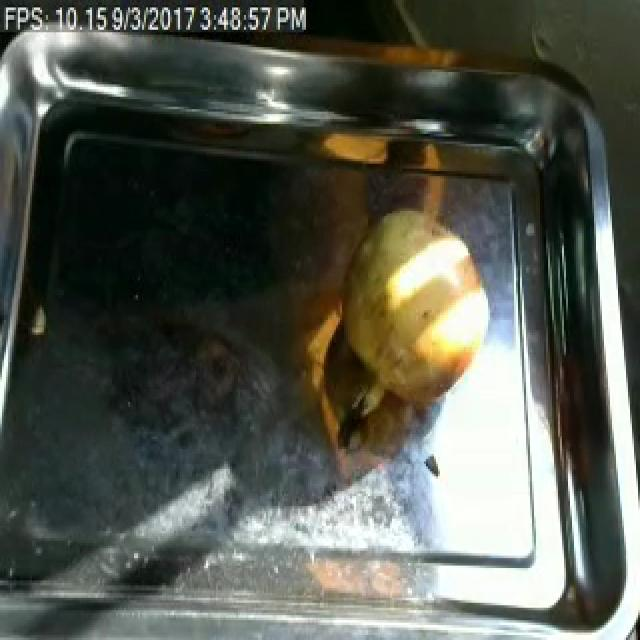fruit: (330, 188, 498, 422)
